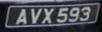3: (79, 6, 92, 22)
5: (55, 7, 70, 23)
9: (68, 7, 80, 24)
A: (15, 8, 28, 25)
V: (29, 8, 42, 25)
X: (42, 7, 54, 25)
